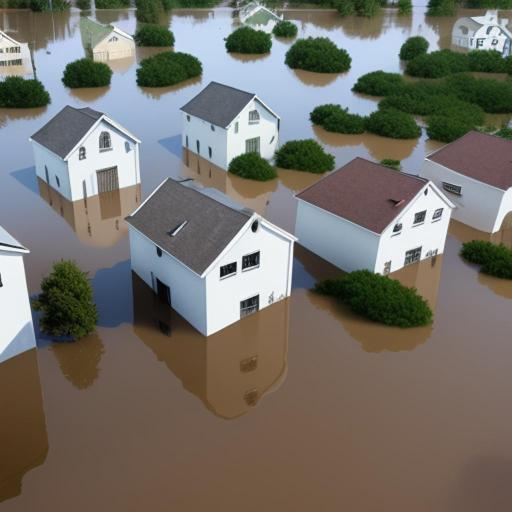flood: (0, 2, 512, 512)
house: (130, 170, 296, 350), (293, 152, 458, 286), (31, 102, 143, 206), (427, 123, 512, 238), (176, 80, 282, 169), (0, 224, 40, 365), (83, 23, 139, 71), (451, 10, 512, 50), (0, 26, 28, 82)
